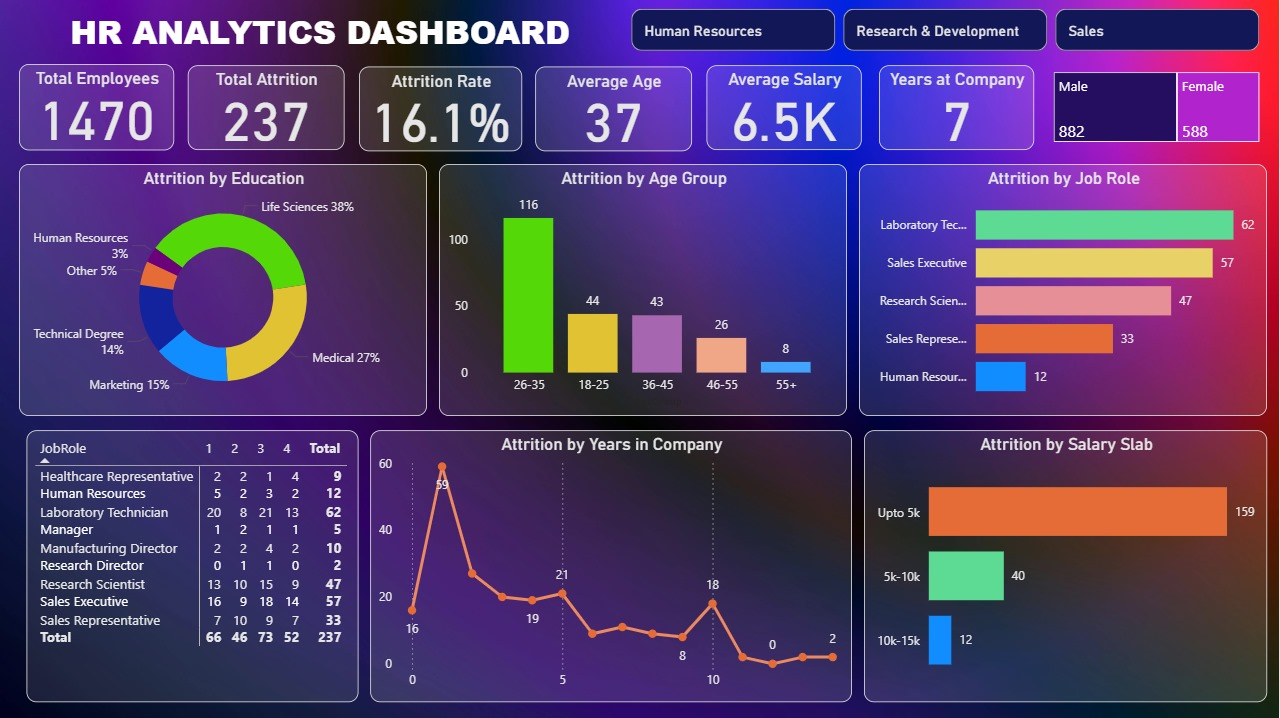

Layout of this report page (visuals, bound fields, positions):
{"tool":"powerbi","page":{"name":"Dashboard","canvas":[1280,720],"ordinal":0},"visuals":[{"type":"card","title":"Total Employees","fields":{"Values":["CountNonNull(HR_Analytics.EmpID)"]},"box":[20.6,64.5,155.1,86.4],"z":0},{"type":"card","title":"Total Attrition","fields":{"Values":["Sum(HR_Analytics.Atrition Count)"]},"box":[189.4,65.9,156.4,85.1],"z":1000},{"type":"card","title":"Attrition Rate","fields":{"Values":["HR_Analytics.Attrition Rate"]},"box":[359.5,67.2,163.3,85.1],"z":2000},{"type":"card","title":"Average Age","fields":{"Values":["HR_Analytics.Average Age"]},"box":[536.5,67.2,156.4,85.1],"z":3000},{"type":"card","title":"Years at Company","fields":{"Values":["Avg(HR_Analytics.YearsAtCompany)"]},"box":[879.6,65.9,155.1,85.1],"z":4000},{"type":"card","title":"Average Salary","fields":{"Values":["Avg(HR_Analytics.MonthlyIncome)"]},"box":[708.1,65.9,155.1,85.1],"z":5000},{"type":"donutChart","title":"Attrition by Education","fields":{"Category":["HR_Analytics.EducationField"],"Y":["Sum(HR_Analytics.Atrition Count)"]},"box":[20.2,165.5,408.3,252.4],"z":6000},{"type":"columnChart","title":"Attrition by Age Group","fields":{"Category":["HR_Analytics.AgeGroup"],"Y":["Sum(HR_Analytics.Atrition Count)"]},"box":[440.5,165.5,408.3,252.4],"z":7000},{"type":"pivotTable","fields":{"Rows":["HR_Analytics.JobRole"],"Columns":["HR_Analytics.JobSatisfaction"],"Values":["Sum(HR_Analytics.Atrition Count)"]},"box":[27.4,430.9,332.1,271.7],"z":8000},{"type":"treemap","title":"Attrition by Gender","fields":{"Group":["HR_Analytics.Gender"],"Values":["CountNonNull(HR_Analytics.Gender)"]},"box":[1049.7,72.7,215.4,75.5],"z":9000},{"type":"clusteredBarChart","title":"Attrition by Job Role","fields":{"Category":["HR_Analytics.JobRole"],"Y":["Sum(HR_Analytics.Atrition Count)"]},"box":[859.5,165.5,408.3,252.4],"z":10000},{"type":"lineChart","title":"Attrition by Years in Company","fields":{"Y":["Sum(HR_Analytics.Atrition Count)"],"Category":["HR_Analytics.YearsAtCompany"]},"box":[371.9,430.9,481.6,271.7],"z":11000},{"type":"clusteredBarChart","title":"Attrition by Salary Slab","fields":{"Y":["Sum(HR_Analytics.Atrition Count)"],"Category":["HR_Analytics.SalarySlab"]},"box":[864.5,430.9,403.4,271.7],"z":12000},{"type":"advancedSlicerVisual","fields":{"Values":["HR_Analytics.Department"]},"box":[627.1,5.5,640.8,52.1],"z":13000},{"type":"textbox","box":[65.9,5.5,516,57.6],"z":14000}]}

Visuals, with their boxes in screenshot pixels (x1, y1, x2, y2), scaled from the page's 1280x720 canvas onto the 1280x718 screenshot:
"Total Employees" card: 21 64 176 150
"Total Attrition" card: 189 66 346 151
"Attrition Rate" card: 360 67 523 152
"Average Age" card: 536 67 693 152
"Years at Company" card: 880 66 1035 151
"Average Salary" card: 708 66 863 151
"Attrition by Education" donutChart: 20 165 428 417
"Attrition by Age Group" columnChart: 440 165 849 417
pivotTable - HR_Analytics.JobRole x HR_Analytics.JobSatisfaction: 27 430 360 701
"Attrition by Gender" treemap: 1050 72 1265 148
"Attrition by Job Role" clusteredBarChart: 860 165 1268 417
"Attrition by Years in Company" lineChart: 372 430 854 701
"Attrition by Salary Slab" clusteredBarChart: 864 430 1268 701
advancedSlicerVisual - HR_Analytics.Department: 627 5 1268 57
textbox: 66 5 582 63
